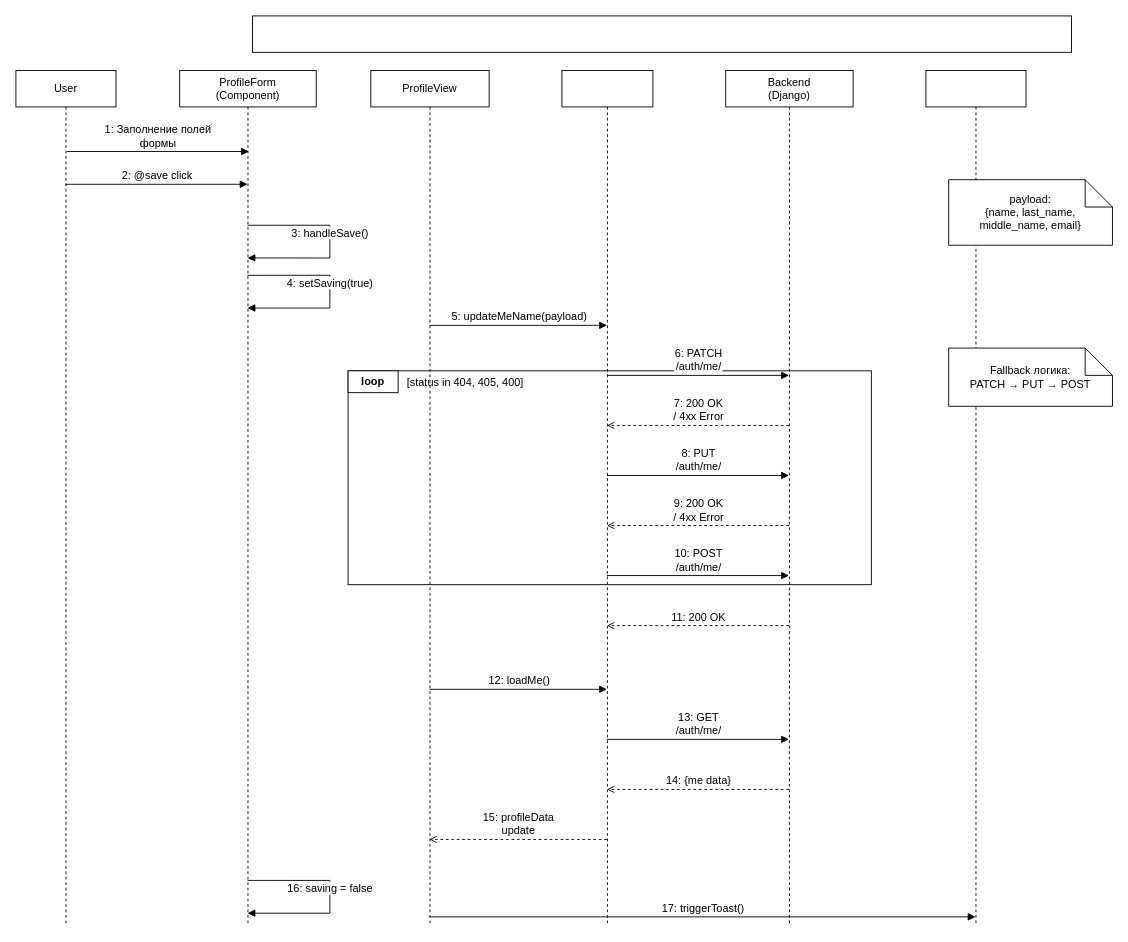
The diagram is 1128 pixels wide and 942 high, and some of its shapes have lost their labels. The shapes that lost their labels are listed below. From the top down, each one's box as (x1, y1, x2, y2) in pixels, then its label:
(252, 15, 1072, 52): Диаграмма последовательности: Обновление профиля (Profile Update)
(561, 70, 653, 926): API
(925, 70, 1026, 926): Toast
